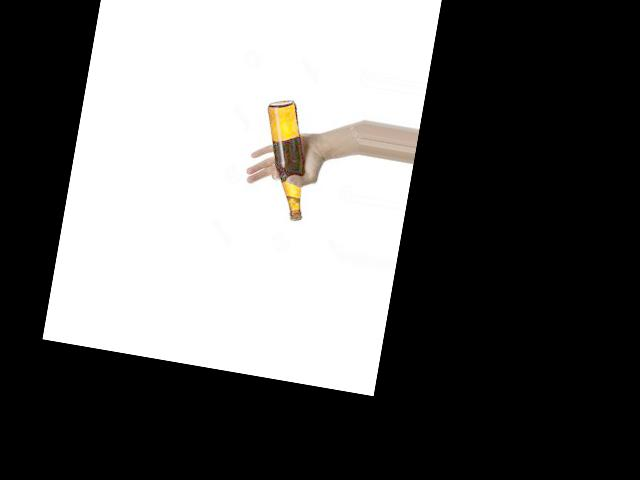beer: (251, 97, 320, 219)
